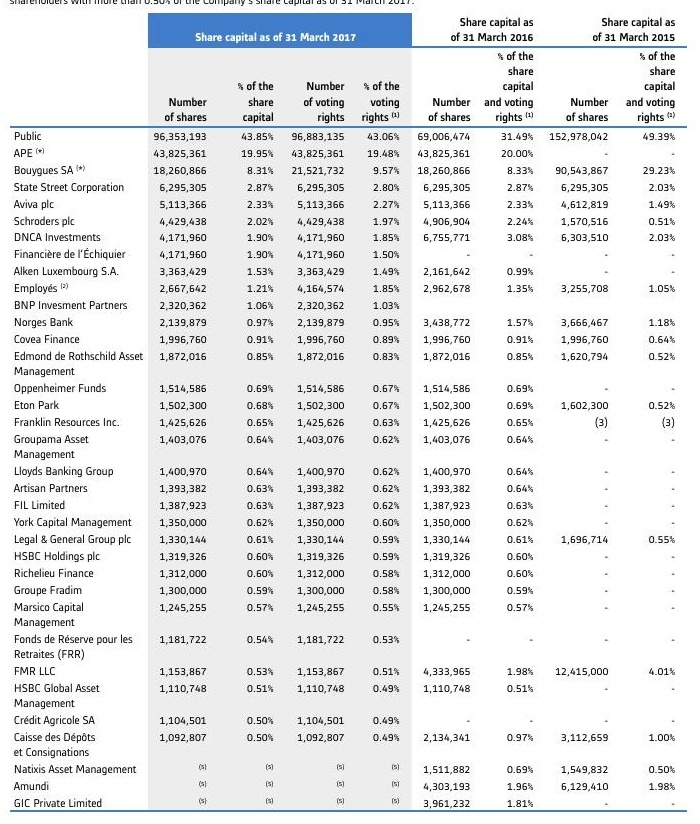table: (0, 0, 700, 824)
